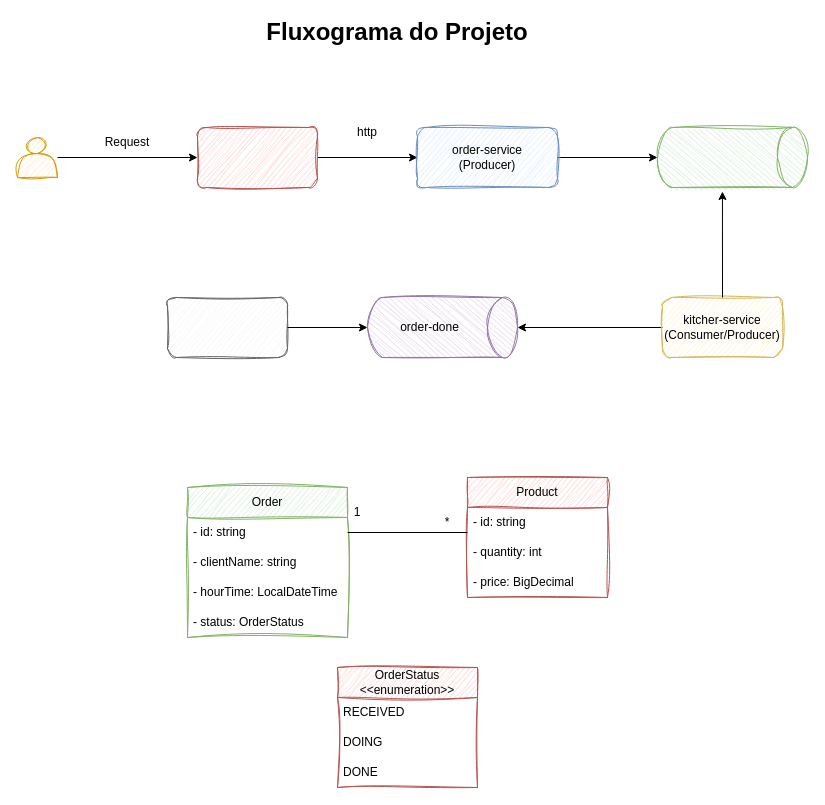
Some shapes in this 825 by 805 pixel diagram are drawn without their labels. The shapes that lost their labels are listed below. From the top down, each one's centre as x and y in pixels, then its label:
point (257, 157): Frontend (Angular)
point (732, 157): order-cretate
point (227, 327): notification-service
